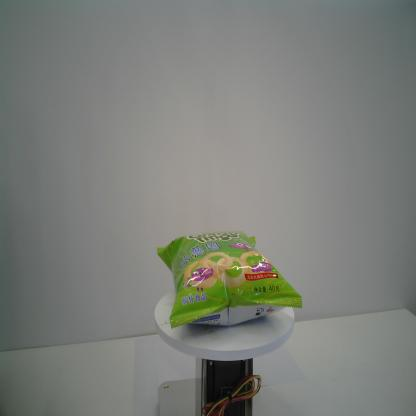Puffed Food: (156, 229, 303, 331)
